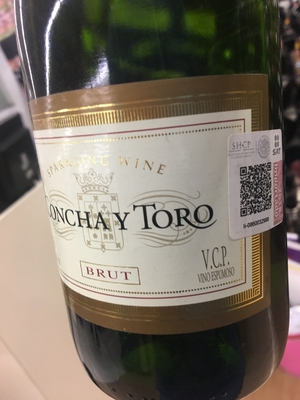brut: (12, 9, 298, 400)
